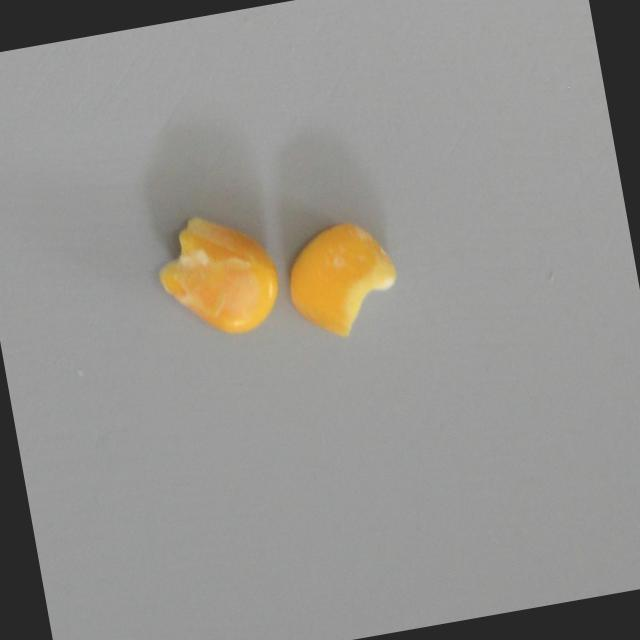dañado: (141, 197, 289, 352)
pelicula: (278, 212, 410, 347)
